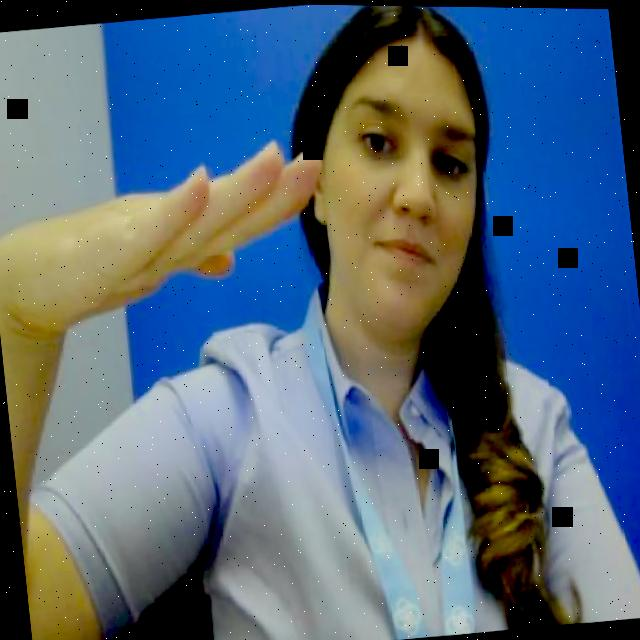Paper: (5, 129, 342, 347)
